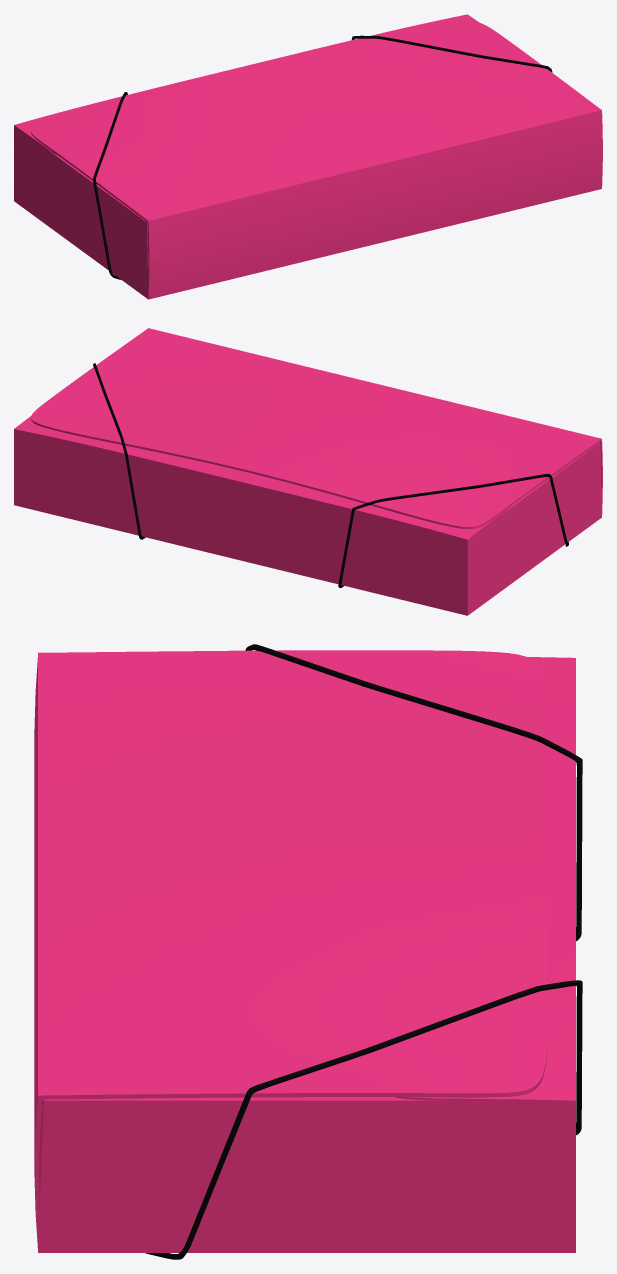
Rendered from 260_ペンケース.glb.
3 views of the same model, one above another, from view 1: azimuth 30°, elevation 25°; view 2: azimuth 150°, elevation 25°; view 3: azimuth 270°, elevation 25° (orthographic). The views are drawn at different scales.
Parts seen in each view (by area): view 1: Body; view 2: Body; view 3: Body.
Part boxes in pixels (bbox=[...]): Body: bbox=[14, 14, 602, 299]; Body: bbox=[14, 328, 602, 615]; Body: bbox=[34, 644, 582, 1259].
Size of the model in its own units: 0.189 by 0.0351 by 0.0978.
